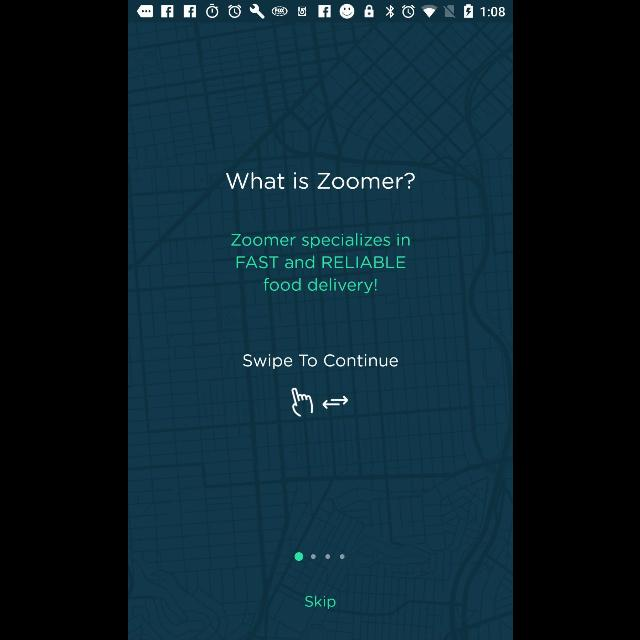backgroundimage: (128, 22, 512, 640)
icon: (322, 395, 348, 409)
image: (290, 388, 312, 417)
pageindicator: (294, 552, 344, 562)
text: (230, 232, 410, 294), (226, 172, 414, 190), (242, 354, 398, 370), (304, 595, 336, 609)
uppertaskbar: (128, 1, 512, 23)
